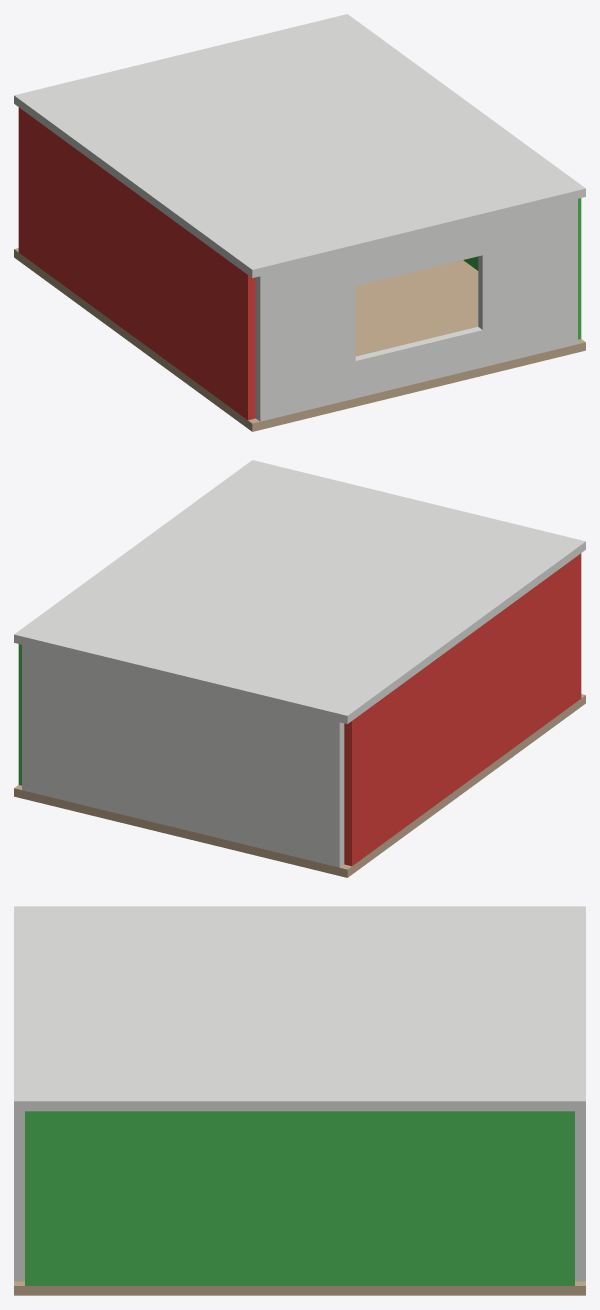
File: room.gltf
3 renders of one model, top to bottom at view 1: azimuth 30°, elevation 25°; view 2: azimuth 150°, elevation 25°; view 3: azimuth 270°, elevation 25°, orthographic. The views are drawn at different scales.
Visible parts, largest first — view 1: Ceiling, WallFront, WallLeft, Floor, WallRight; view 2: Ceiling, WallBack, WallLeft, Floor, WallRight; view 3: Ceiling, WallRight, Floor, WallBack, WallFront.
Part boxes in pixels (left/top/right/bottom): Ceiling: left=14, top=14, right=585, bottom=277; WallFront: left=255, top=199, right=577, bottom=421; WallLeft: left=18, top=107, right=255, bottom=420; Floor: left=14, top=248, right=585, bottom=431; WallRight: left=463, top=198, right=581, bottom=339; Ceiling: left=14, top=460, right=585, bottom=723; WallBack: left=22, top=645, right=344, bottom=867; WallLeft: left=344, top=553, right=581, bottom=866; Floor: left=14, top=694, right=585, bottom=877; WallRight: left=18, top=644, right=21, bottom=785; Ceiling: left=14, top=906, right=585, bottom=1111; WallRight: left=25, top=1111, right=574, bottom=1285; Floor: left=14, top=1281, right=585, bottom=1295; WallBack: left=575, top=1111, right=585, bottom=1281; WallFront: left=14, top=1111, right=24, bottom=1281.
Size of the model in its own units: 8.4 by 3.9 by 10.4.
